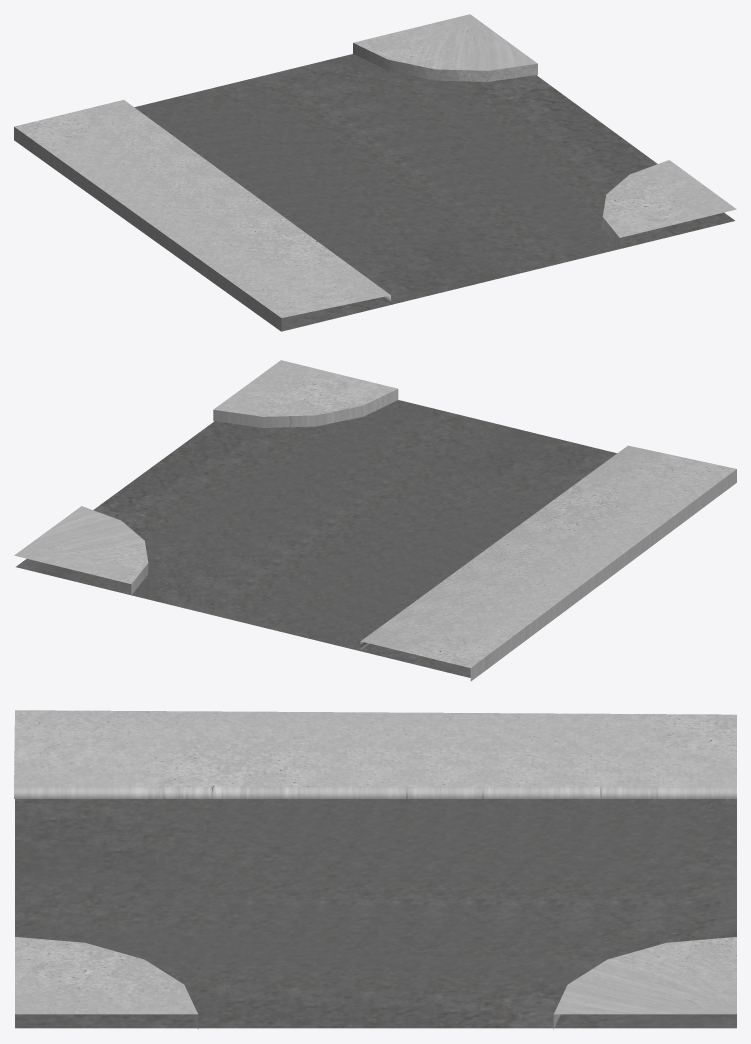
Rendered from RoadThreeWay.fbx.
The picture shows the model from 3 angles, top to bottom: view 1: azimuth 30°, elevation 25°; view 2: azimuth 150°, elevation 25°; view 3: azimuth 270°, elevation 25°; orthographic projection. The views are drawn at different scales.
Parts seen in each view (by area): view 1: pCube6; view 2: pCube6; view 3: pCube6.
Boxes of the visible parts, bbox=[...] form: pCube6: bbox=[14, 14, 736, 331]; pCube6: bbox=[14, 360, 736, 681]; pCube6: bbox=[14, 710, 736, 1029].
Bounding box in the file's own units: 23.7 × 0.8551 × 24.04.
Materials: 2 (2 with a texture image).
